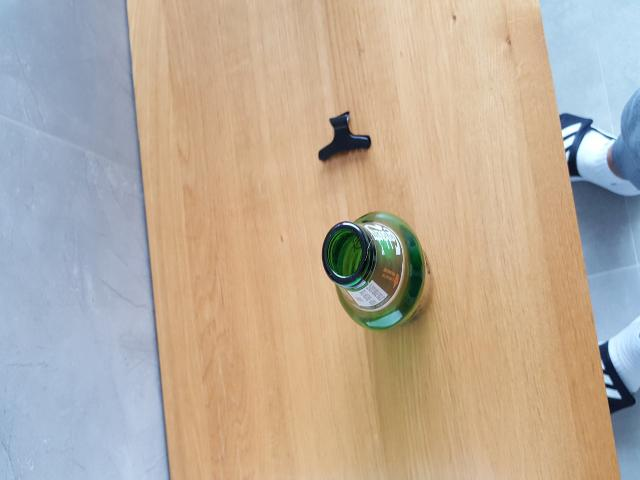beer: (322, 208, 434, 330)
